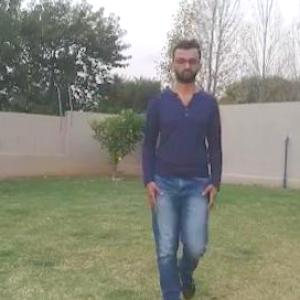follow: (143, 39, 222, 299)
